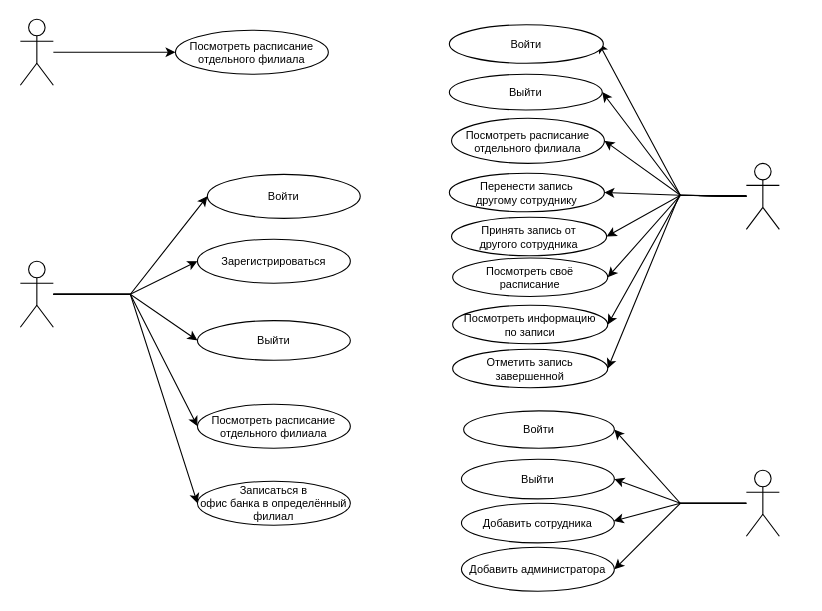
The diagram is 822 pixels wide and 611 high, and some of its shapes have lost their labels. The shapes that lost their labels are listed below. From the top down, each one's box as (x1, y1, x2, y2) in pixels, then its label:
(19, 18, 53, 85): Гость
(745, 162, 779, 229): Сотрудник
(19, 260, 53, 327): Клиент
(745, 469, 779, 536): Администратор
